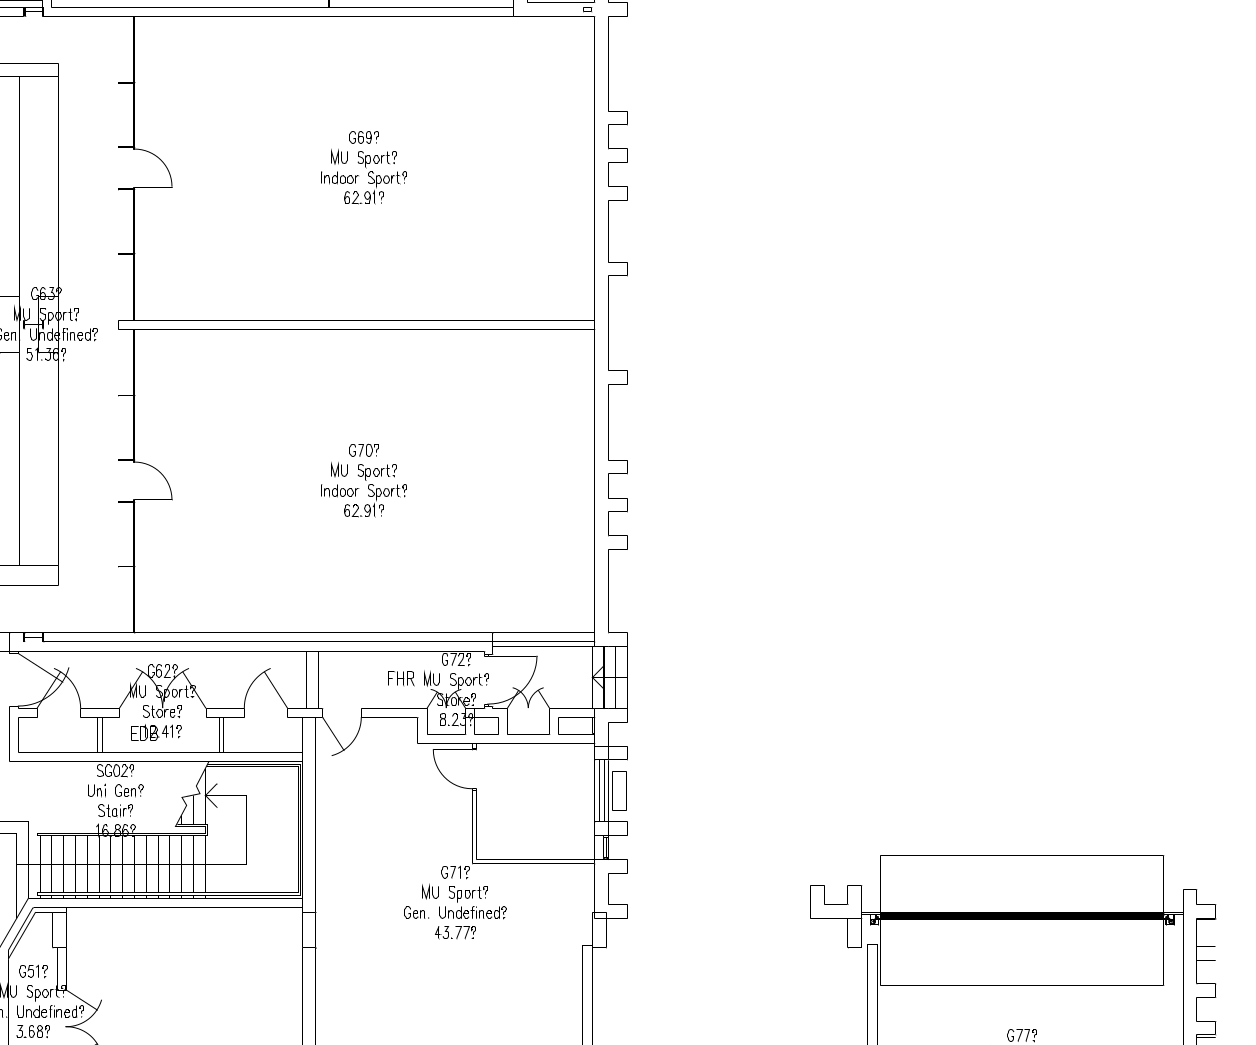door: (425, 746, 479, 797), (134, 455, 188, 506), (134, 143, 188, 194), (239, 670, 293, 721), (319, 716, 373, 767)
